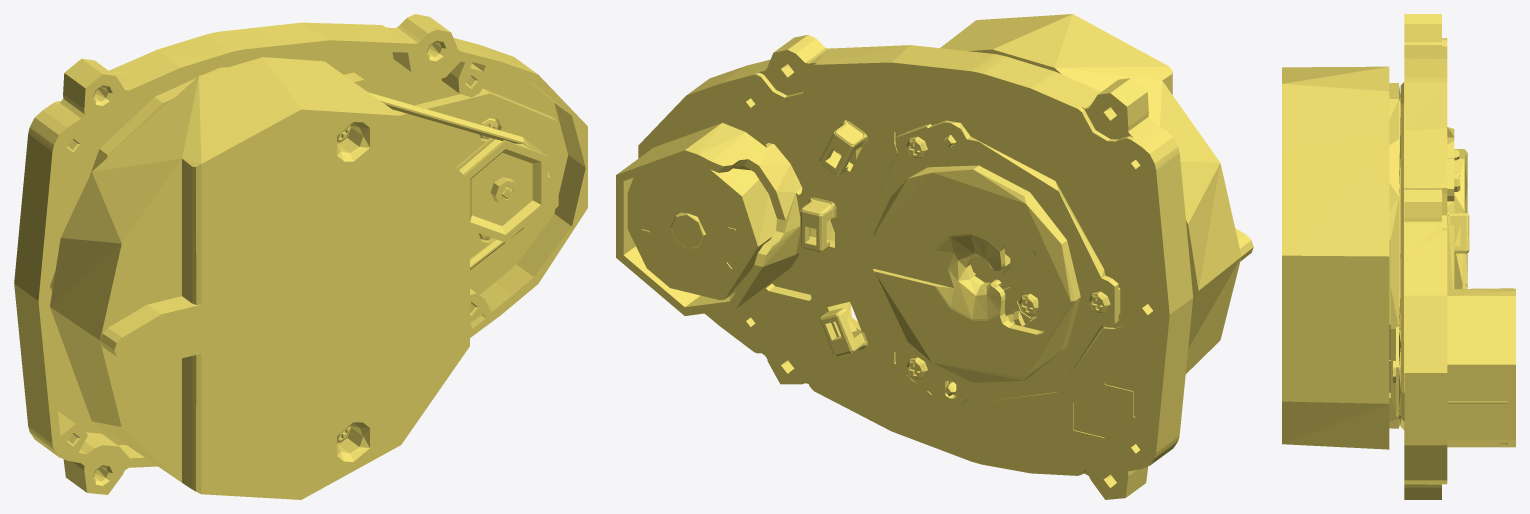
Rendered from base_scan.glb.
3 renders of one model, left to right at view 1: azimuth 30°, elevation 25°; view 2: azimuth 150°, elevation 25°; view 3: azimuth 270°, elevation 25°, orthographic. The views are drawn at different scales.
Parts seen in each view (by area): view 1: base_scan; view 2: base_scan; view 3: base_scan.
Part boxes in pixels (<box>): base_scan: <box>14,14,587,499</box>; base_scan: <box>616,14,1253,499</box>; base_scan: <box>1282,14,1515,499</box>.
Bounding box in the file's own units: 0.0938 × 0.0689 × 0.0392.
